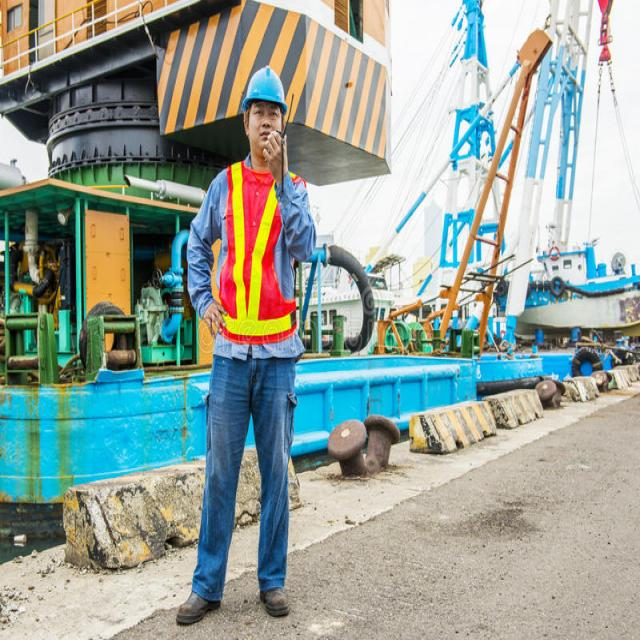Reflective-Jacket: (212, 156, 302, 345)
Safety-Helmet: (240, 62, 290, 113)
